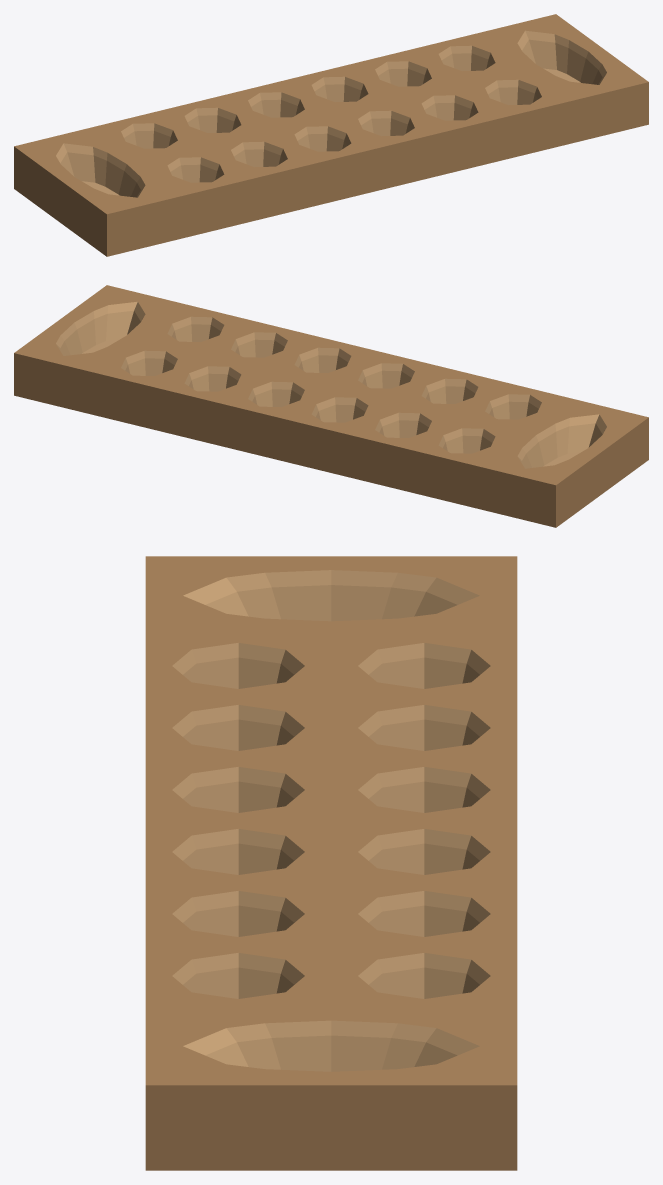
3 renders of one model, top to bottom at view 1: azimuth 30°, elevation 25°; view 2: azimuth 150°, elevation 25°; view 3: azimuth 270°, elevation 25°, orthographic. The views are drawn at different scales.
Visible parts, largest first — view 1: WholeGroundFootIntegralDishedWellsAndTwinStores; view 2: WholeGroundFootIntegralDishedWellsAndTwinStores; view 3: WholeGroundFootIntegralDishedWellsAndTwinStores.
Boxes of the visible parts, x1,y1,x2,y2 form: WholeGroundFootIntegralDishedWellsAndTwinStores: (14,14,648,256); WholeGroundFootIntegralDishedWellsAndTwinStores: (14,285,648,527); WholeGroundFootIntegralDishedWellsAndTwinStores: (145,556,517,1170).
Bounding box in the file's own units: 0.64 × 0.048 × 0.19.
